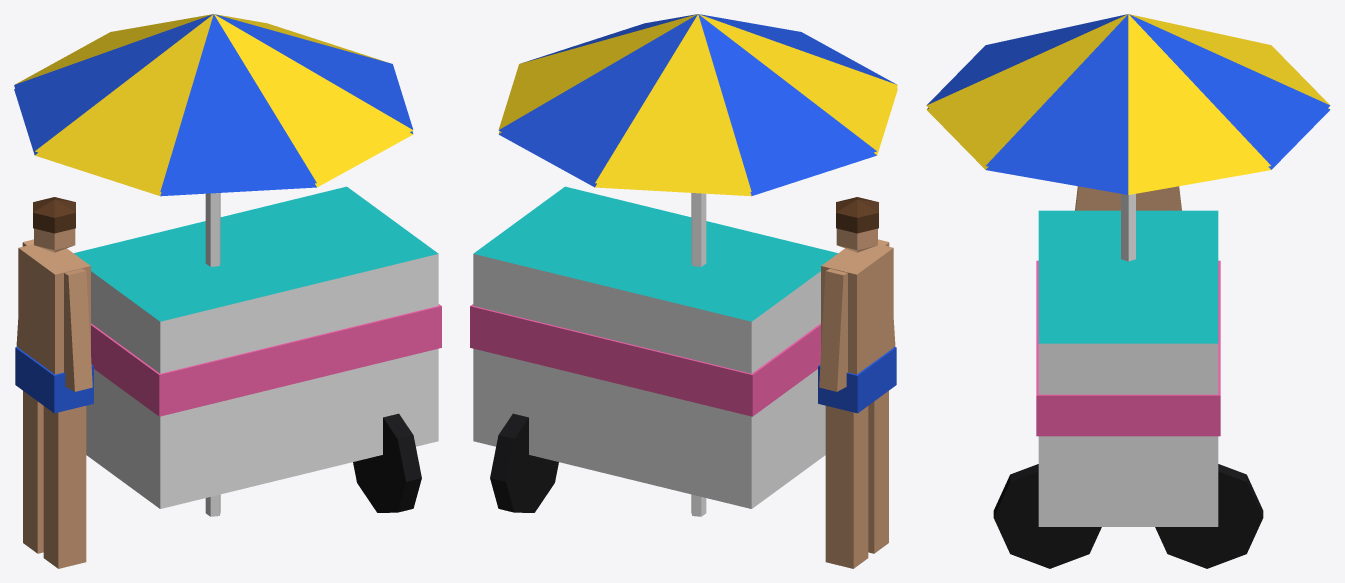
File: carrito_helados.obj
3 renders of one model, left to right at view 1: azimuth 30°, elevation 25°; view 2: azimuth 150°, elevation 25°; view 3: azimuth 270°, elevation 25°, orthographic. The views are drawn at different scales.
Visible parts, largest first — view 1: carrito_helados; view 2: carrito_helados; view 3: carrito_helados.
Part boxes in pixels (x1=…): carrito_helados: x1=14, y1=14, x2=441, y2=568; carrito_helados: x1=470, y1=14, x2=897, y2=568; carrito_helados: x1=926, y1=14, x2=1330, y2=568.
Size of the model in its own units: 1.82 by 2.4 by 1.8.
